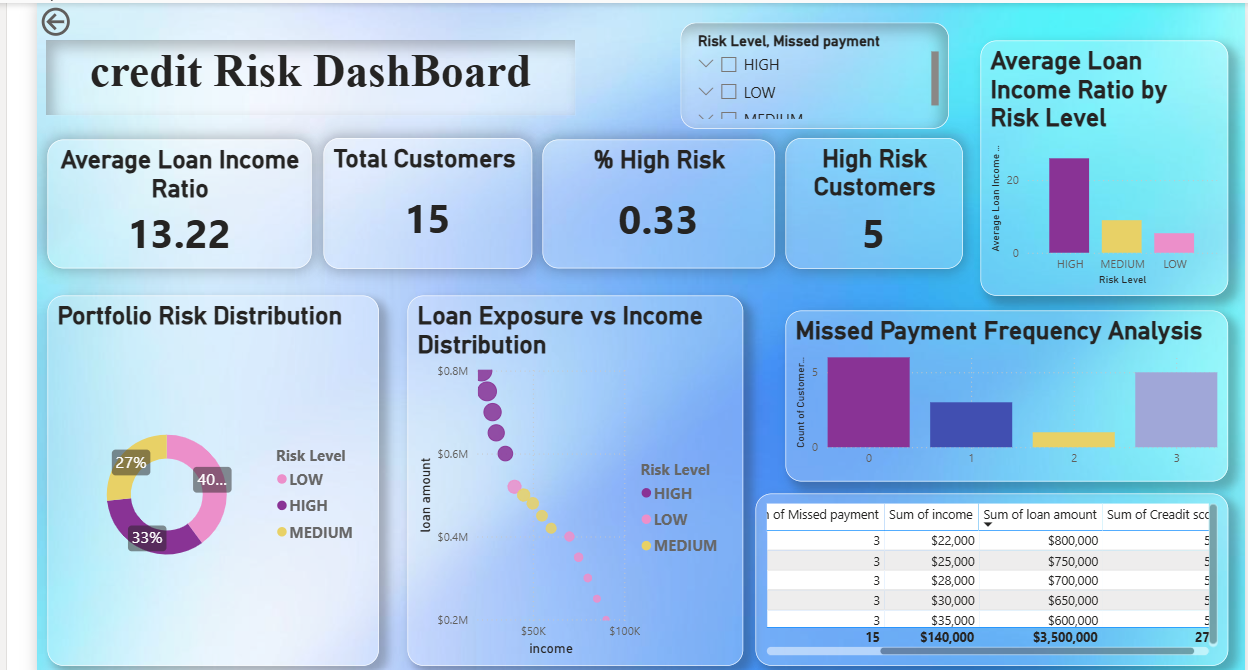

What the dashboard file says about the page in this screenshot:
{"tool":"powerbi","page":{"name":"Page 1","canvas":[1280,720],"ordinal":0},"visuals":[{"type":"card","title":"Total Customers","fields":{"Values":["Count(credit risk result (4).Customer ID)"]},"box":[303.8,143.2,221.1,138.4],"z":0},{"type":"card","title":"High Risk Customers","fields":{"Values":["credit risk result (4).High Risk Customers"]},"box":[793.7,143.2,187.7,138.4],"z":1000},{"type":"card","title":"% High Risk","fields":{"Values":["credit risk result (4).Measure"]},"box":[536,144.7,246.5,136.8],"z":2000},{"type":"card","title":"Average Loan Income Ratio","fields":{"Values":["credit risk result (4).Average Loan Income Ratio"]},"box":[11.1,144.7,279.9,136.8],"z":3000},{"type":"donutChart","title":"Portfolio Risk Distribution","fields":{"Category":["credit risk result (4).Risk Level"],"Y":["CountNonNull(credit risk result (4).Customer ID)"]},"box":[11.1,310.2,351.5,392.9],"z":4000},{"type":"scatterChart","title":"Loan Exposure vs Income Distribution","fields":{"X":["credit risk result (4).income"],"Y":["credit risk result (4).loan amount"],"Series":["credit risk result (4).Risk Level"],"Size":["Sum(credit risk result (4).Loan Income Ratio)"]},"box":[392.9,310.2,356.3,392.9],"z":5000},{"type":"clusteredColumnChart","fields":{"Category":["credit risk result (4).Risk Level"],"Y":["credit risk result (4).Average Loan Income Ratio"]},"box":[1000.5,39.8,262.5,270.4],"z":6000},{"type":"columnChart","title":"Missed Payment Frequency Analysis","fields":{"Category":["credit risk result (4).Missed payment"],"Y":["CountNonNull(credit risk result (4).Customer ID)"]},"box":[793.7,326.1,469.2,181.3],"z":7000},{"type":"tableEx","fields":{"Values":["credit risk result (4).Loan ID","credit risk result (4).Customer ID","Sum(credit risk result (4).Missed payment)","Sum(credit risk result (4).income)","Sum(credit risk result (4).loan amount)","Sum(credit risk result (4).Creadit score)"]},"box":[761.9,520.1,501,182.9],"z":8000},{"type":"actionButton","box":[0,0,100.2,39.8],"z":9000},{"type":"textbox","box":[9.4,39.7,561.3,79.4],"z":10000},{"type":"slicer","fields":{"Values":["credit risk result (4).Risk Level","credit risk result (4).Missed payment"]},"box":[682.4,20.7,284.7,112.9],"z":11000}]}

Visuals, with their boxes in screenshot pixels (x1, y1, x2, y2):
"Total Customers" card: <bbox>389, 172, 585, 295</bbox>
"High Risk Customers" card: <bbox>822, 172, 988, 295</bbox>
"% High Risk" card: <bbox>594, 173, 812, 294</bbox>
"Average Loan Income Ratio" card: <bbox>130, 173, 378, 294</bbox>
"Portfolio Risk Distribution" donutChart: <bbox>130, 320, 441, 667</bbox>
"Loan Exposure vs Income Distribution" scatterChart: <bbox>468, 320, 783, 667</bbox>
clusteredColumnChart - credit risk result (4).Risk Level x credit risk result (4).Average Loan Income Ratio: <bbox>1005, 81, 1237, 320</bbox>
"Missed Payment Frequency Analysis" columnChart: <bbox>822, 334, 1237, 494</bbox>
tableEx - credit risk result (4).Loan ID x credit risk result (4).Customer ID: <bbox>794, 506, 1237, 667</bbox>
actionButton: <bbox>120, 46, 209, 81</bbox>
textbox: <bbox>129, 81, 625, 151</bbox>
slicer - credit risk result (4).Risk Level x credit risk result (4).Missed payment: <bbox>724, 64, 976, 164</bbox>
